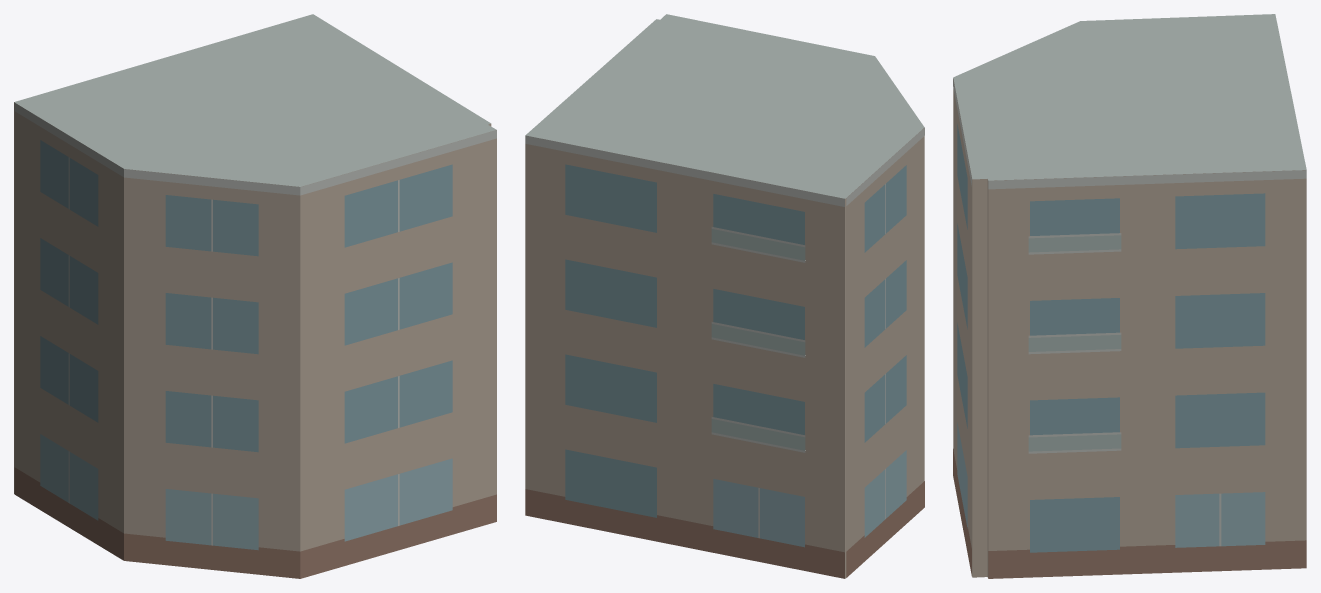
Rendered from survey-upis-32621682.glb.
The picture shows the model from 3 angles, left to right: view 1: azimuth 30°, elevation 25°; view 2: azimuth 150°, elevation 25°; view 3: azimuth 270°, elevation 25°; orthographic projection. The views are drawn at different scales.
Parts seen in each view (by area): view 1: survey-upis-32621682.tmp; view 2: survey-upis-32621682.tmp; view 3: survey-upis-32621682.tmp.
Part boxes in pixels (x1,y1,x2,y2): survey-upis-32621682.tmp: (14, 14, 496, 578); survey-upis-32621682.tmp: (525, 14, 924, 578); survey-upis-32621682.tmp: (953, 14, 1306, 578).
Size of the model in its own units: 9.97 by 11.1 by 8.94.
